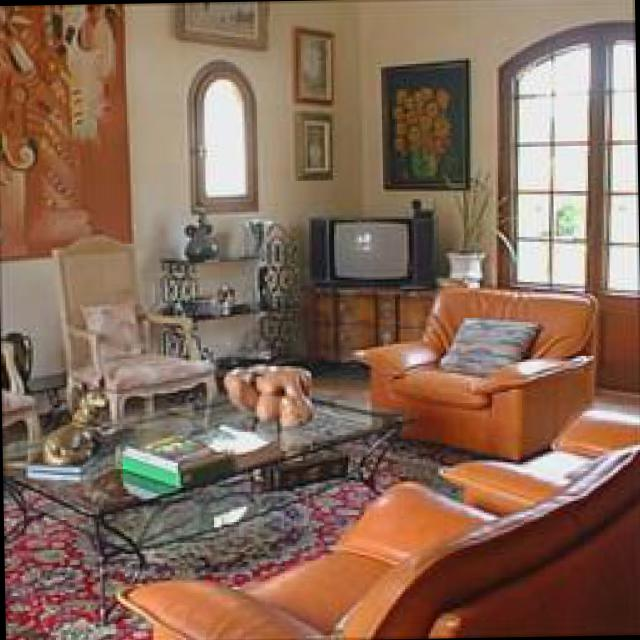2001: (191, 54, 266, 211)
armchair crop: (122, 444, 640, 640), (368, 280, 600, 451), (54, 231, 218, 431), (440, 403, 640, 512)
armchair top: (5, 340, 59, 440)
book case: (189, 424, 290, 474)
bookcase crop: (161, 216, 303, 367)
books crop: (125, 425, 238, 487)
box contants: (253, 442, 353, 486)
chair -occluded-: (57, 229, 226, 419)
doors crop: (499, 22, 640, 394)
painting crop: (0, 3, 136, 261), (383, 52, 475, 189), (174, 1, 272, 48), (295, 28, 341, 103), (297, 110, 337, 175)
pillow occluded: (441, 315, 537, 375), (85, 296, 150, 361)
plant -x: (449, 167, 516, 278)
pot hanger: (186, 202, 226, 257)
small table part: (7, 389, 412, 619)
statue: (224, 366, 322, 423), (45, 384, 109, 460)
television: (309, 283, 442, 360)
television cabinet: (312, 210, 441, 278)
vase -X: (219, 277, 239, 309)
